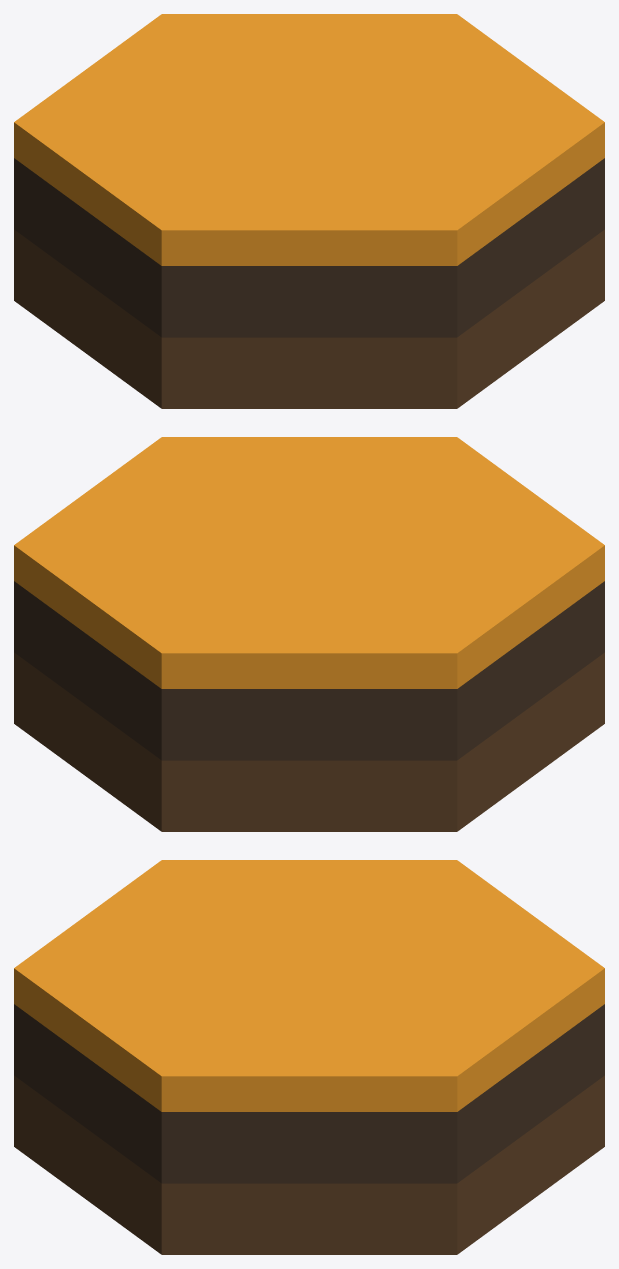
The model's file is hexagon-sand.glb.
3 renders of one model, top to bottom at view 1: azimuth 30°, elevation 25°; view 2: azimuth 150°, elevation 25°; view 3: azimuth 270°, elevation 25°, orthographic.
Parts seen in each view (by area): view 1: hexagon-sand; view 2: hexagon-sand; view 3: hexagon-sand.
Boxes of the visible parts, x1=… form: hexagon-sand: x1=14, y1=14, x2=604, y2=408; hexagon-sand: x1=14, y1=437, x2=604, y2=831; hexagon-sand: x1=14, y1=860, x2=604, y2=1254.
Size of the model in its own units: 25.98 by 10 by 30.
1 material, 1 textured.
